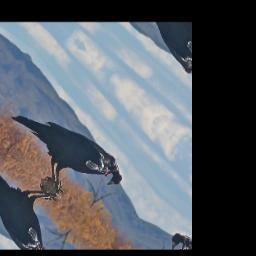Crow: (0, 82, 130, 223)
